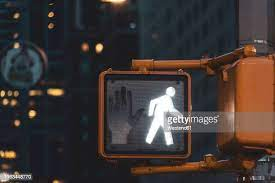pedestrian: (107, 80, 187, 154)
